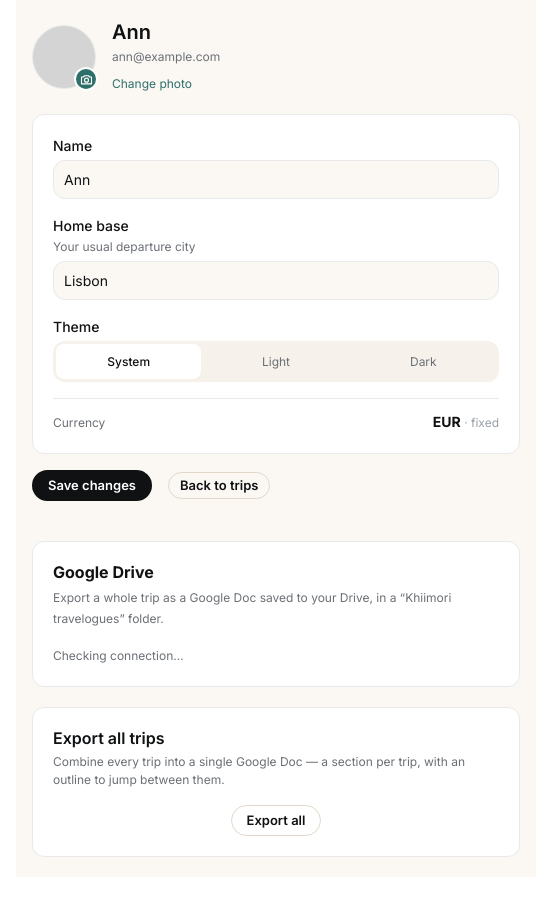
Test: Profile › surfaces a validation error and does not update the context
The width and height of the screenshot is (553, 900).
Step 1. Click the button "Save changes" → (92, 486), box top-left (32, 470), bottom-right (152, 501)
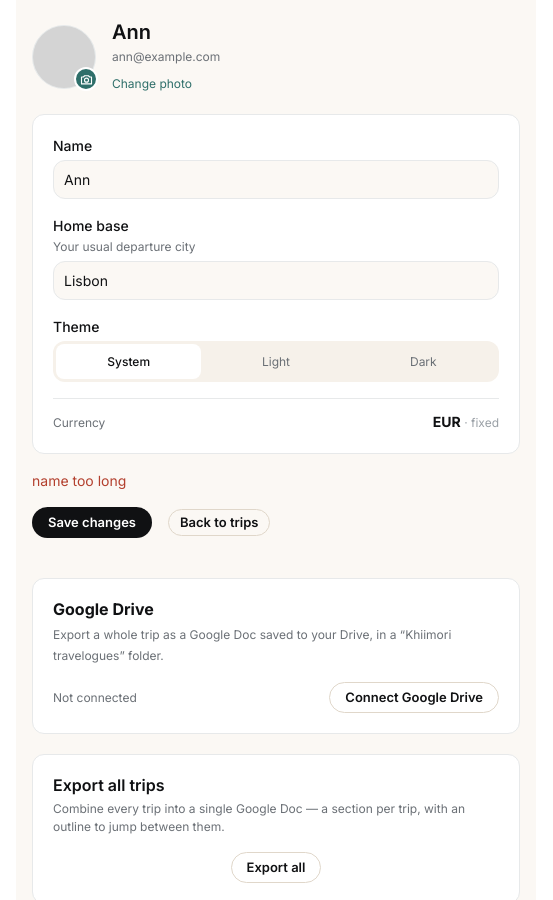
Result: the message reads "name too long" at top-left (32, 472), bottom-right (126, 489)
